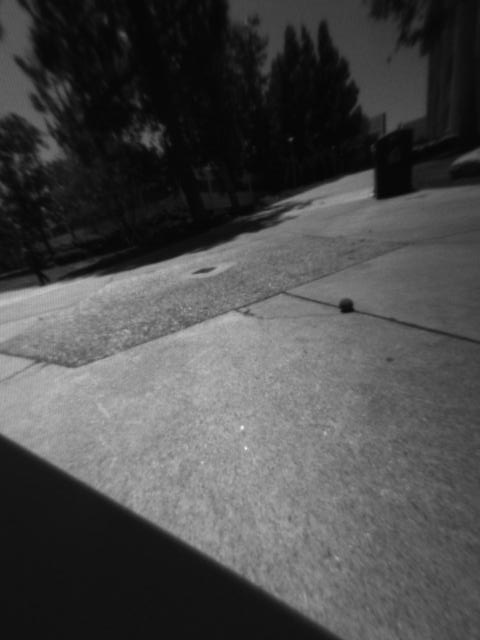dogtoy: (334, 292, 363, 322)
